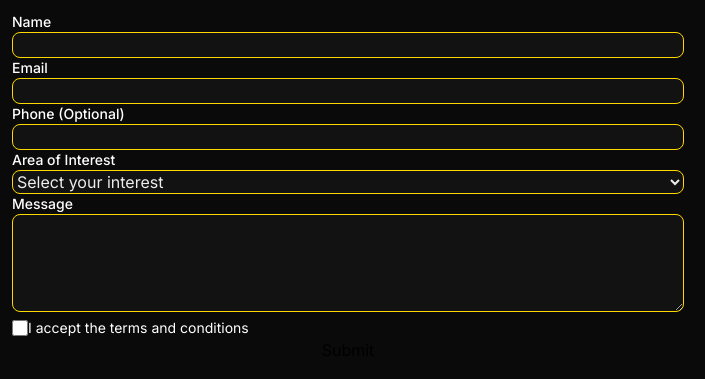
Test: ContactForm › validates email format
Type "invalid-email" into the field labelled "Email" at (348, 91), box [12,78,684,104]
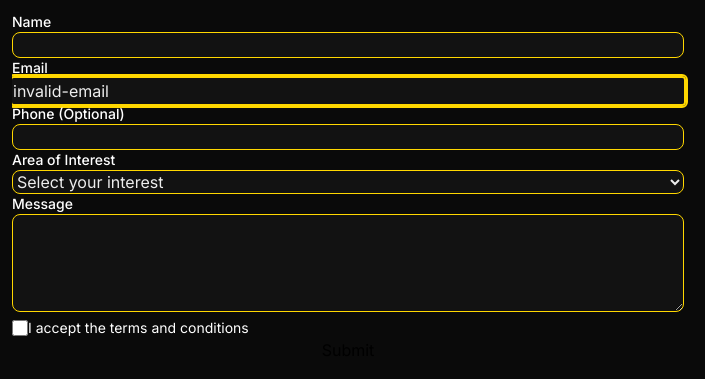
Press Tab
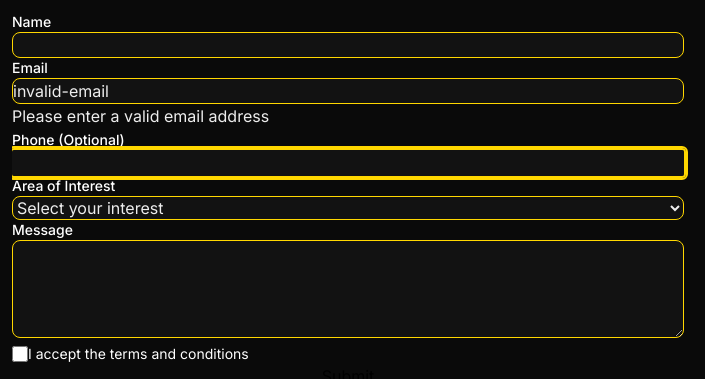
Now the text "Please enter a valid email address" is shown, box [12,106,269,126]
